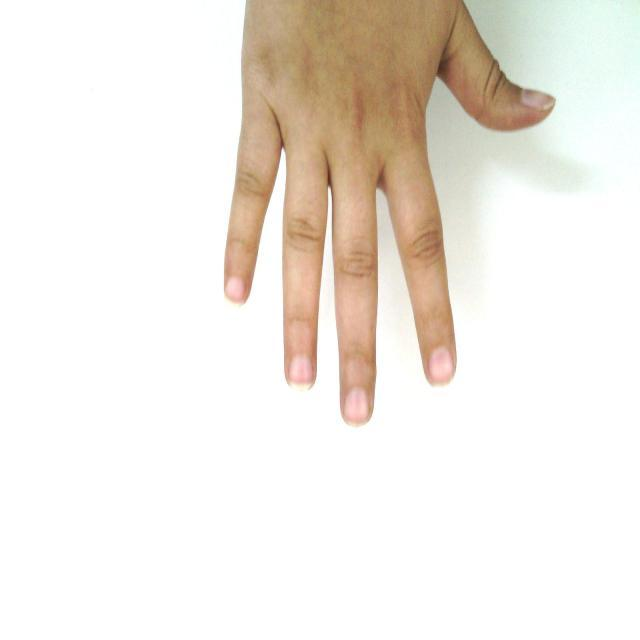Fingernail: (430, 348, 452, 385), (345, 389, 368, 424), (289, 357, 312, 390), (521, 90, 553, 109), (227, 279, 244, 301)
